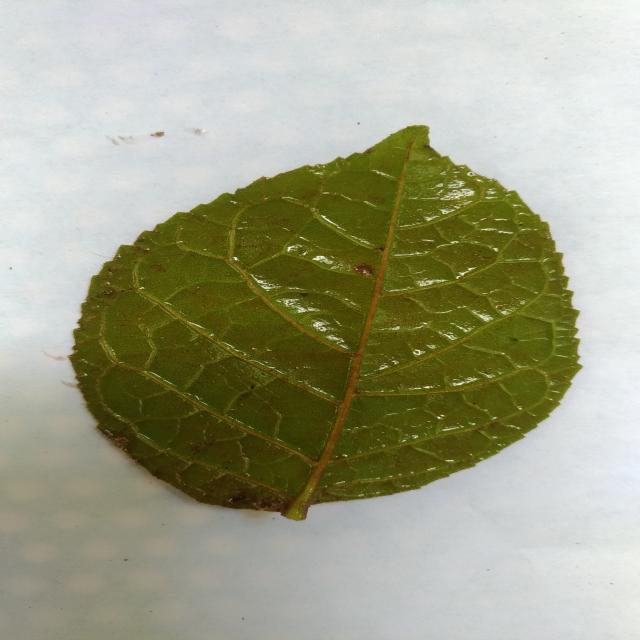padri: (71, 126, 580, 520)
